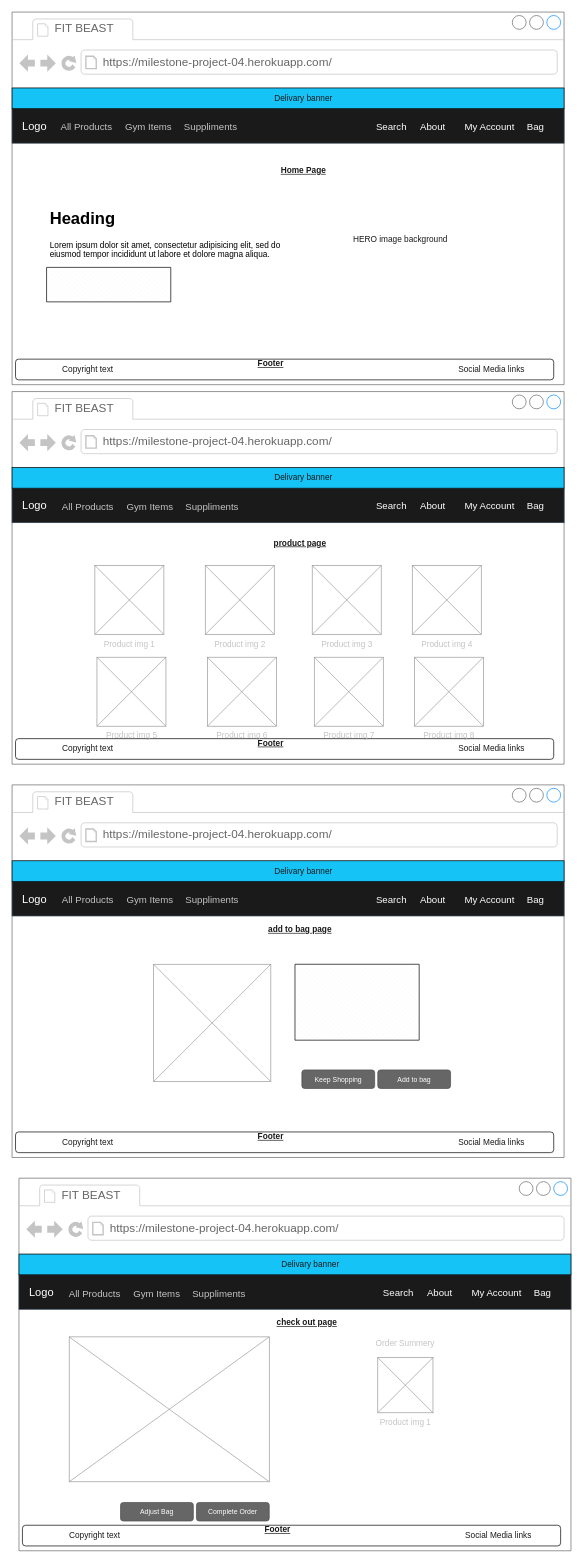
The diagram is 583 pixels wide and 1563 high, and some of its shapes have lost their labels. The shapes that lost their labels are listed below. From the top down, each one's box as (x1, y1, x2, y2) in pixels, then its label:
(46, 267, 171, 302): Shop now button
(294, 964, 419, 1040): Product details
(153, 964, 271, 1082): Product image
(69, 1336, 269, 1482): Order details
